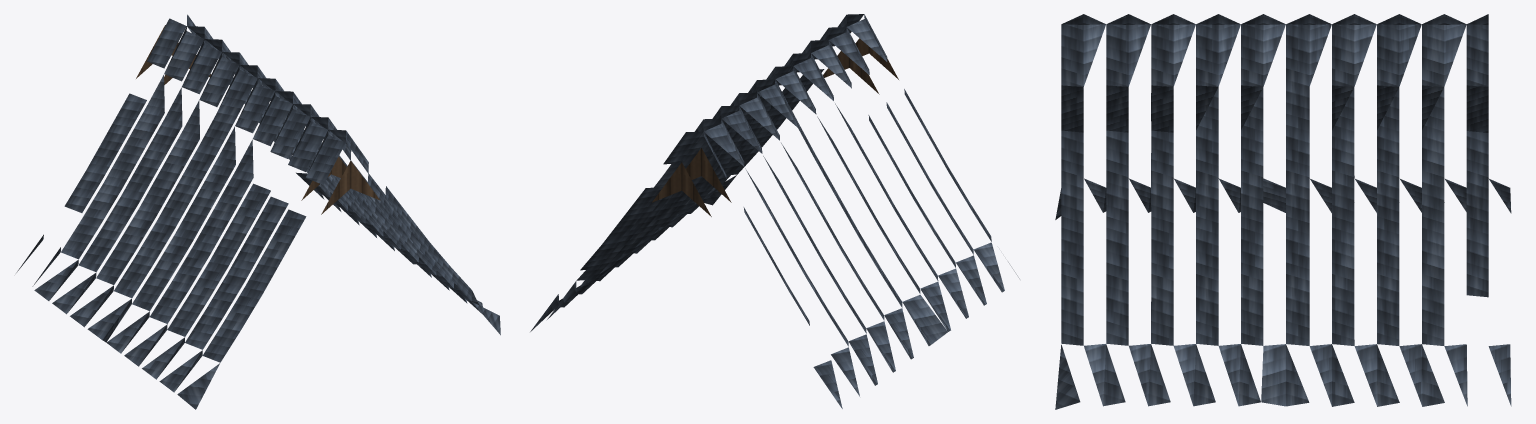
File: Roof_Slate_4x4_LOD2.gltf
3 views of the same model, side by side, from view 1: azimuth 30°, elevation 25°; view 2: azimuth 150°, elevation 25°; view 3: azimuth 270°, elevation 25° (orthographic). The views are drawn at different scales.
Visible parts, largest first — view 1: Roof_Slate_4x4_LOD2; view 2: Roof_Slate_4x4_LOD2; view 3: Roof_Slate_4x4_LOD2.
Part boxes in pixels (x1,y1,x2,y2): Roof_Slate_4x4_LOD2: (16,14,500,409); Roof_Slate_4x4_LOD2: (530,14,1019,408); Roof_Slate_4x4_LOD2: (1055,14,1511,409).
Size of the model in its own units: 5.51 by 3.79 by 5.49.
2 materials, 2 textured.
